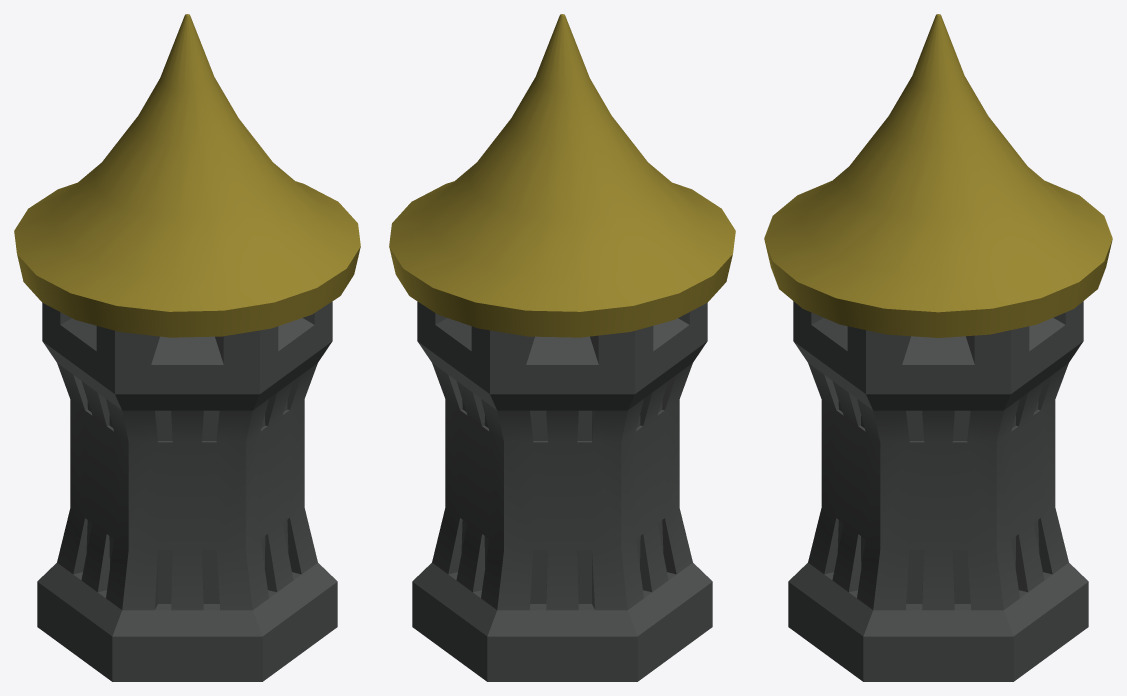
Rendered from M_Castle.fbx.
3 views of the same model, side by side, from view 1: azimuth 30°, elevation 25°; view 2: azimuth 150°, elevation 25°; view 3: azimuth 270°, elevation 25° (orthographic).
Visible parts, largest first — view 1: Tower, Toit; view 2: Tower, Toit; view 3: Tower, Toit.
Part boxes in pixels (x1=…): Tower: x1=37, y1=301, x2=337, y2=681; Toit: x1=14, y1=14, x2=360, y2=337; Tower: x1=412, y1=301, x2=712, y2=681; Toit: x1=389, y1=14, x2=735, y2=337; Tower: x1=788, y1=301, x2=1088, y2=681; Toit: x1=764, y1=14, x2=1112, y2=337.
Size of the model in its own units: 22.43 by 43.51 by 22.43.
